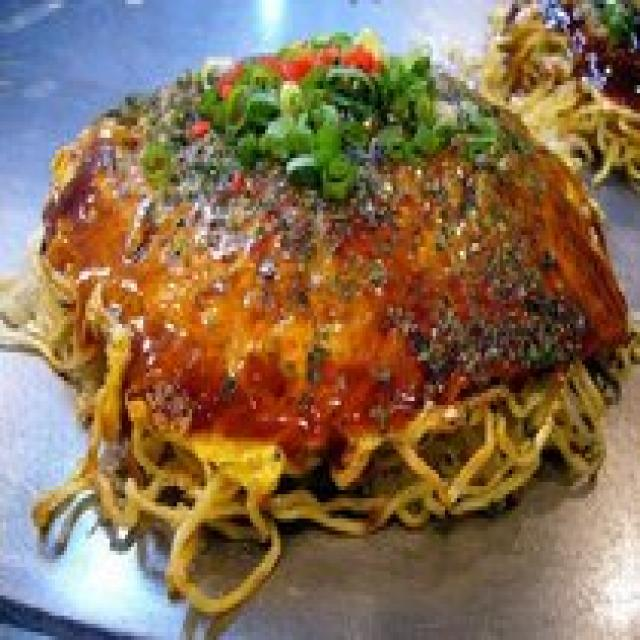蛋糕甜品: (24, 8, 616, 600)
